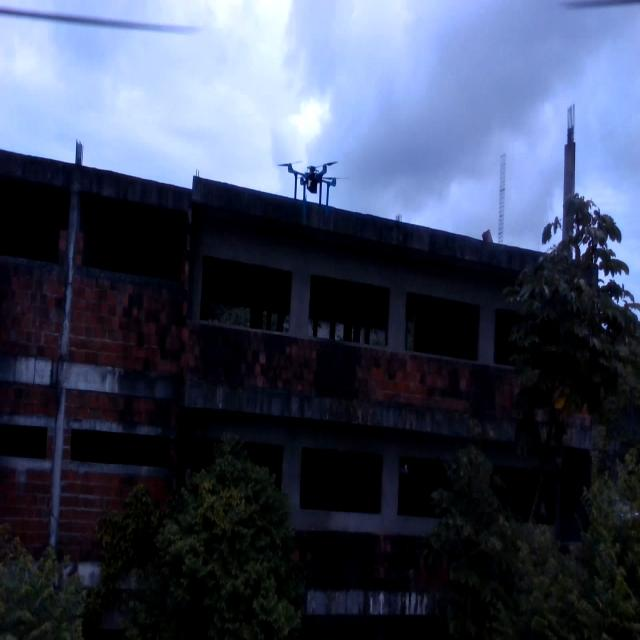-uav-: (271, 148, 355, 236)
